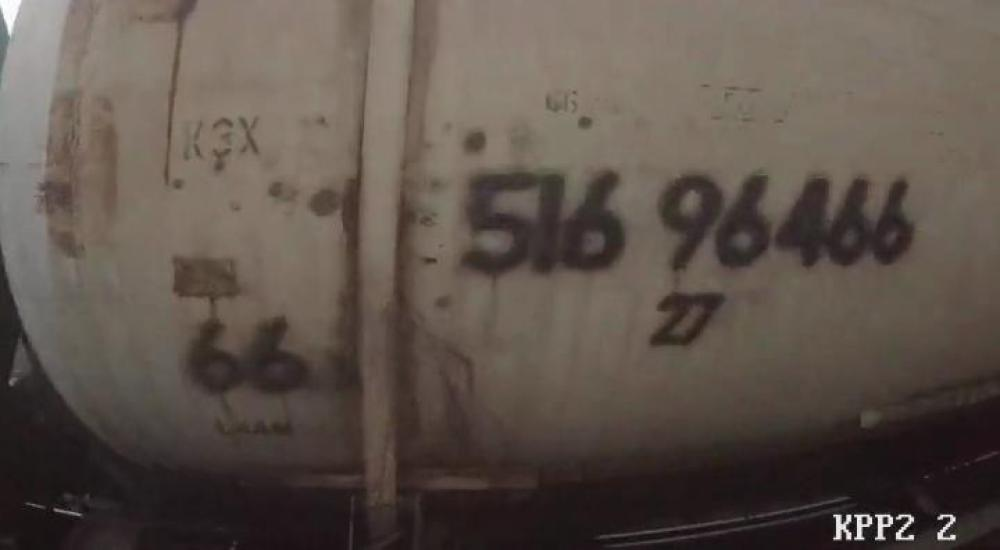Wagon-number: (459, 163, 920, 286)
